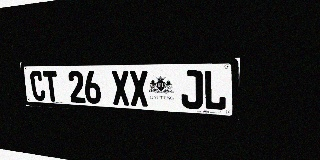2: (68, 71, 86, 103)
6: (83, 71, 102, 104)
C: (29, 71, 46, 101)
J: (181, 70, 203, 110)
L: (203, 70, 227, 111)
T: (43, 71, 60, 102)
X: (129, 70, 149, 107), (111, 70, 130, 106)
